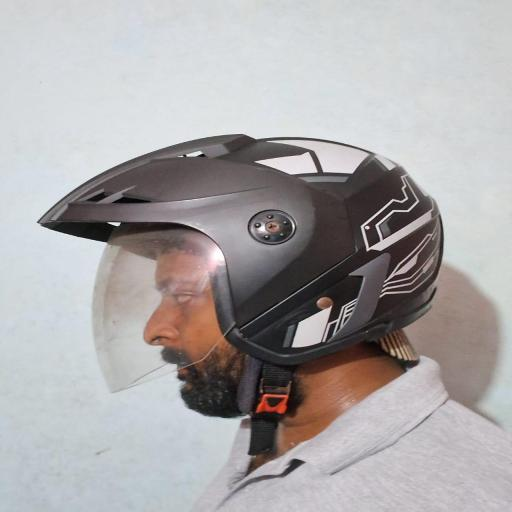with helmet: (32, 132, 446, 396)
